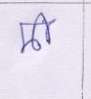i_matra: (37, 13, 54, 44)
